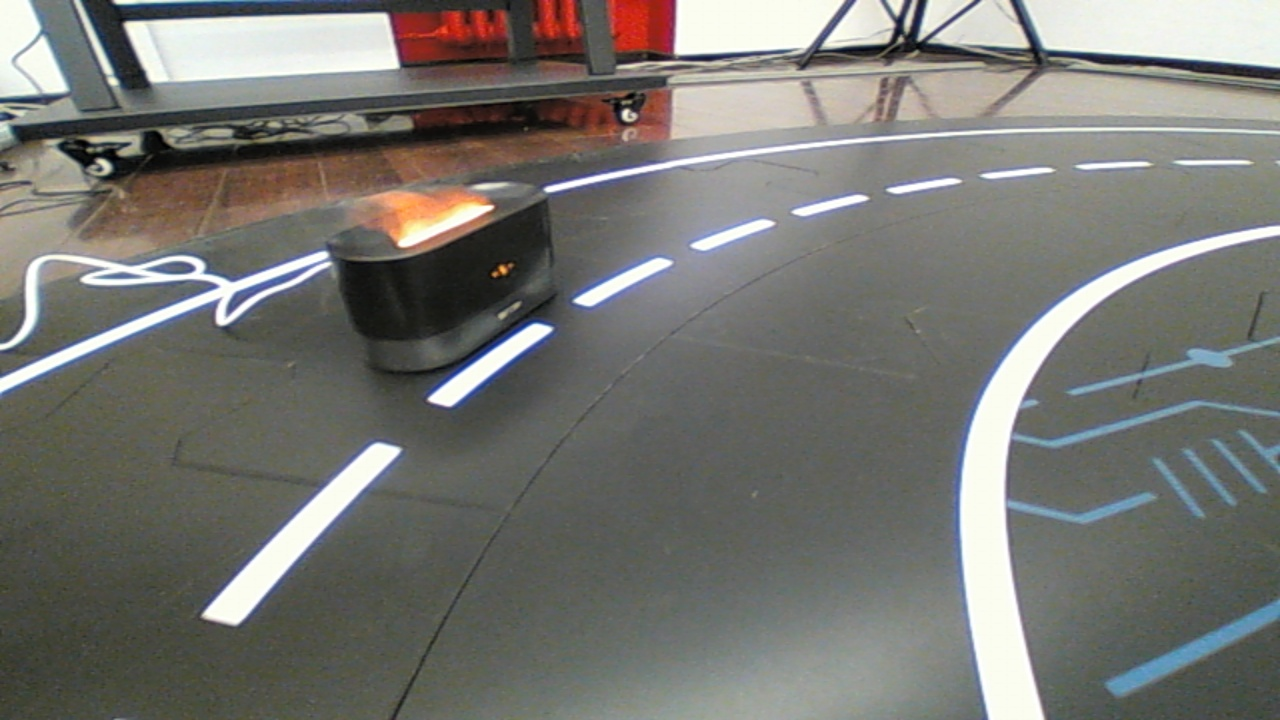Movement prohibition: (305, 157, 568, 382)
